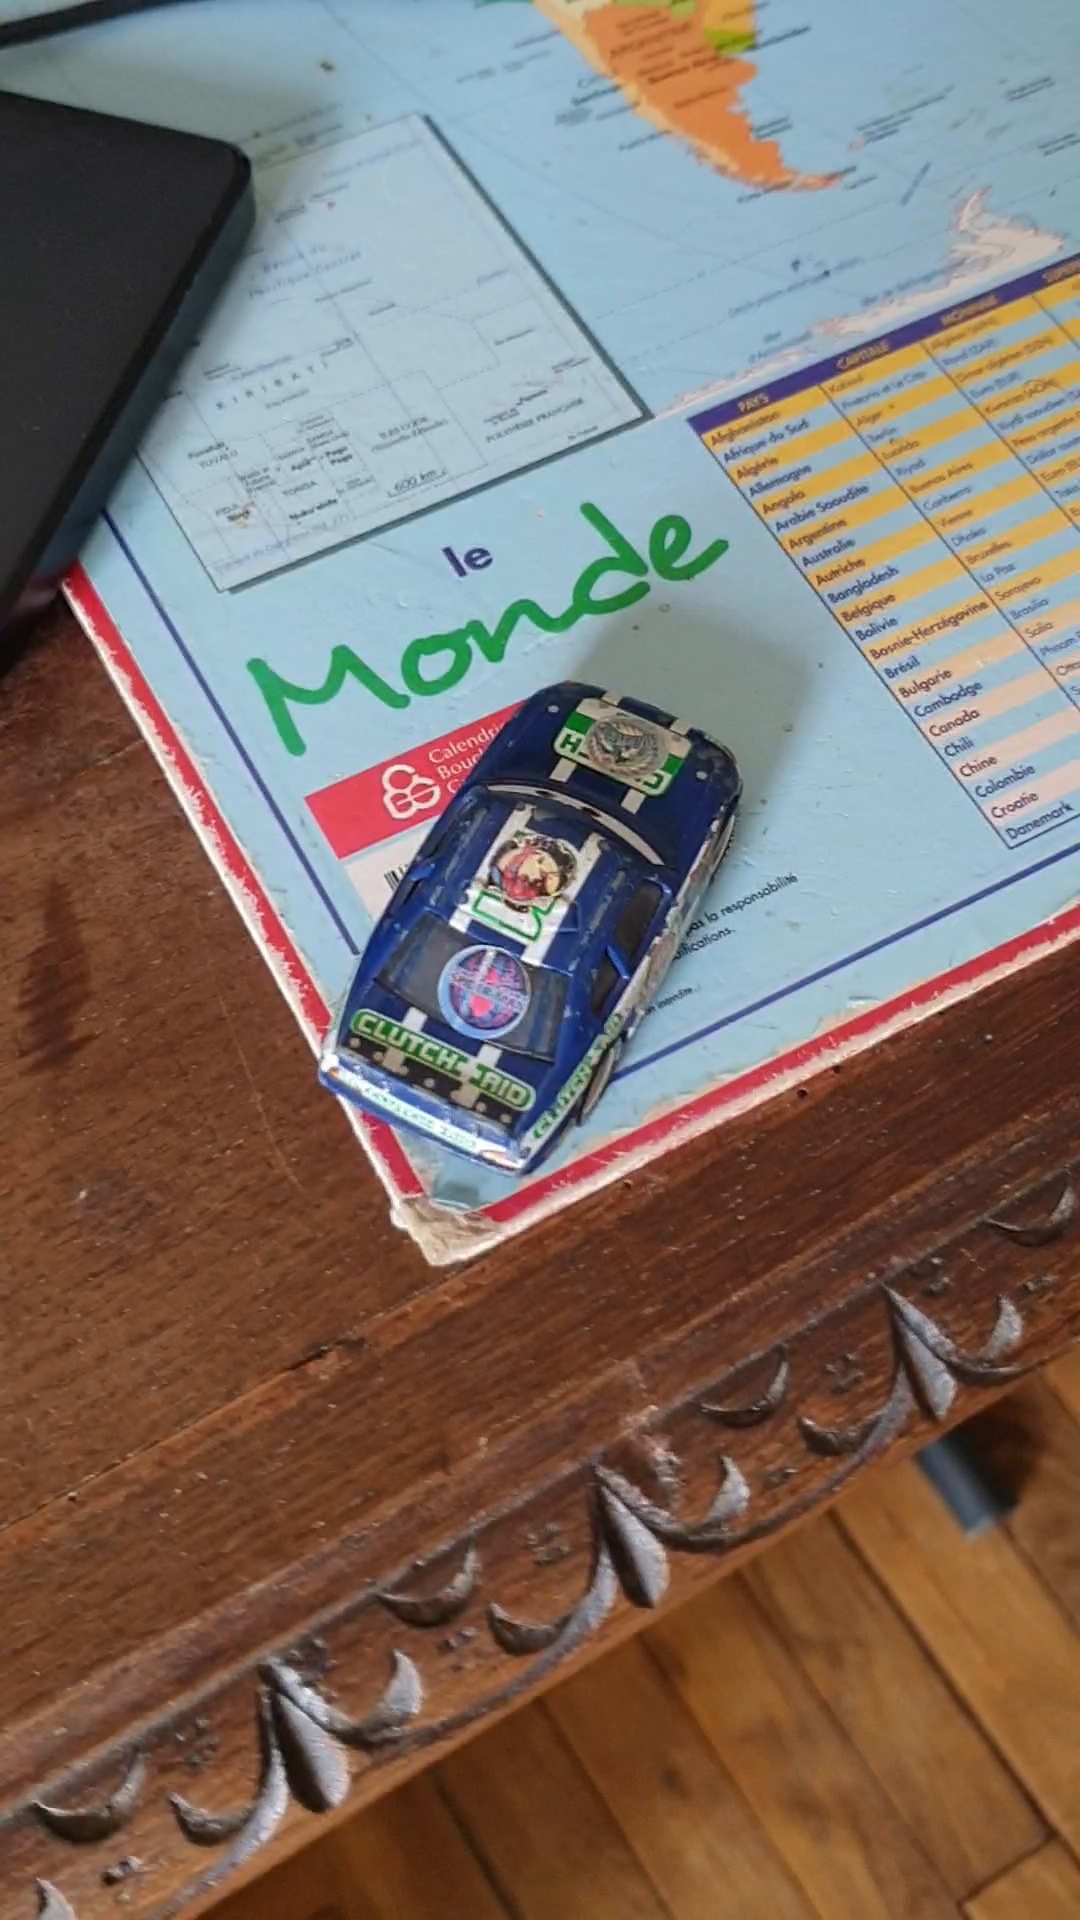cars: (314, 676, 737, 1180)
